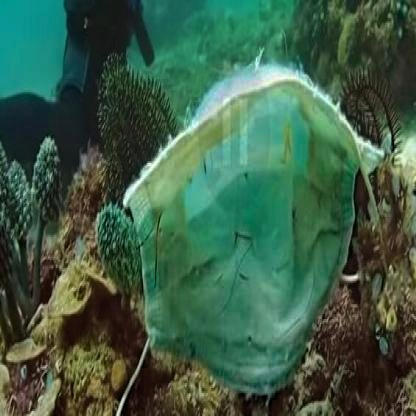Mask: (123, 68, 377, 396)
